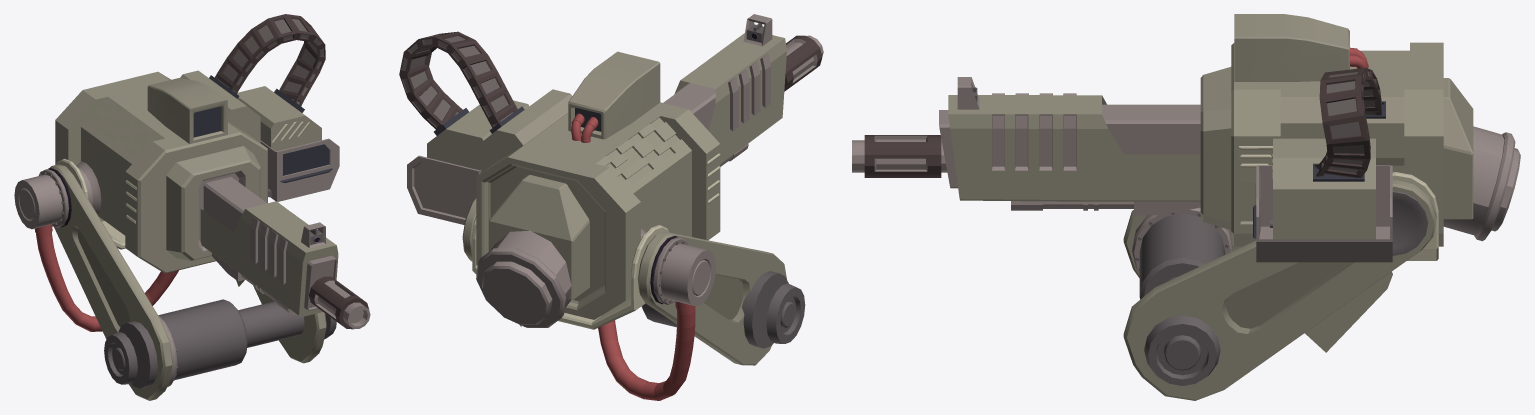
File: gun.fbx
3 renders of one model, left to right at view 1: azimuth 30°, elevation 25°; view 2: azimuth 150°, elevation 25°; view 3: azimuth 270°, elevation 25°, orthographic. The views are drawn at different scales.
Parts seen in each view (by area): view 1: Cube, Cylinder.004, Plane.003, Cube.006, Cube.004, Cube.012, Cube.007, Cylinder.005, Cylinder.006, Cube.010, Cube.001, Cube.020 (+2 smaller); view 2: Cube, Plane.003, Cube.006, Cylinder, Cube.004, Cube.012, Cube.007, Cylinder.004, Cylinder.006, Cylinder.005, Cube.020, Cube.001 (+3 smaller); view 3: Cube, Cube.006, Plane.003, Cube.004, Cylinder.004, Cube.007, Cube.012, Cylinder, Cube.010, Cube.002, Cylinder.002, Cube.020 (+2 smaller).
Boxes of the visible parts, x1,y1,x2,y2 form: Cube: (55, 70, 267, 273); Cylinder.004: (104, 299, 336, 388); Plane.003: (50, 164, 326, 400); Cube.006: (200, 177, 338, 317); Cube.004: (209, 75, 339, 201); Cube.012: (214, 14, 325, 106); Cube.007: (147, 78, 227, 143); Cylinder.005: (14, 161, 177, 380); Cylinder.006: (34, 224, 178, 331); Cube.010: (309, 276, 370, 329); Cube.001: (250, 217, 287, 284); Cube.020: (56, 158, 125, 249); Cube: (476, 89, 720, 319); Plane.003: (462, 198, 786, 365); Cube.006: (663, 33, 786, 164); Cylinder: (476, 230, 571, 327); Cube.004: (407, 100, 529, 224); Cube.012: (399, 31, 517, 129); Cube.007: (568, 51, 660, 139); Cylinder.004: (641, 271, 805, 348); Cylinder.006: (598, 301, 695, 400); Cylinder.005: (641, 229, 715, 306); Cube.020: (472, 216, 669, 329); Cube.001: (728, 53, 770, 131); Cube: (1200, 42, 1473, 246); Cube.006: (939, 95, 1200, 201); Plane.003: (1123, 180, 1436, 400); Cube.004: (1256, 101, 1392, 262); Cylinder.004: (1132, 190, 1428, 385); Cube.007: (1234, 14, 1349, 81); Cube.012: (1316, 67, 1381, 177); Cylinder: (1443, 126, 1520, 241); Cube.010: (852, 135, 947, 177); Cube.002: (1305, 271, 1392, 352); Cylinder.002: (1011, 201, 1133, 210); Cube.020: (1392, 172, 1438, 260).
Size of the model in its own units: 441 by 434 by 733.
